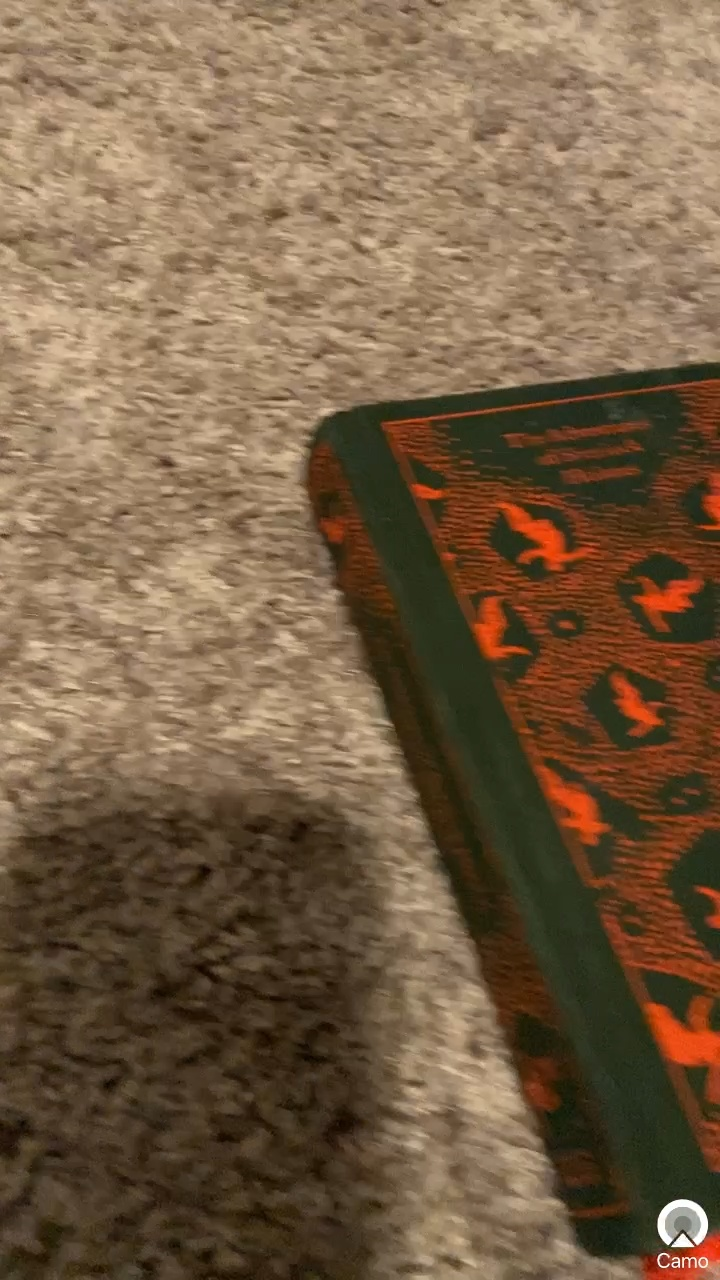Book: (278, 321, 720, 1280)
